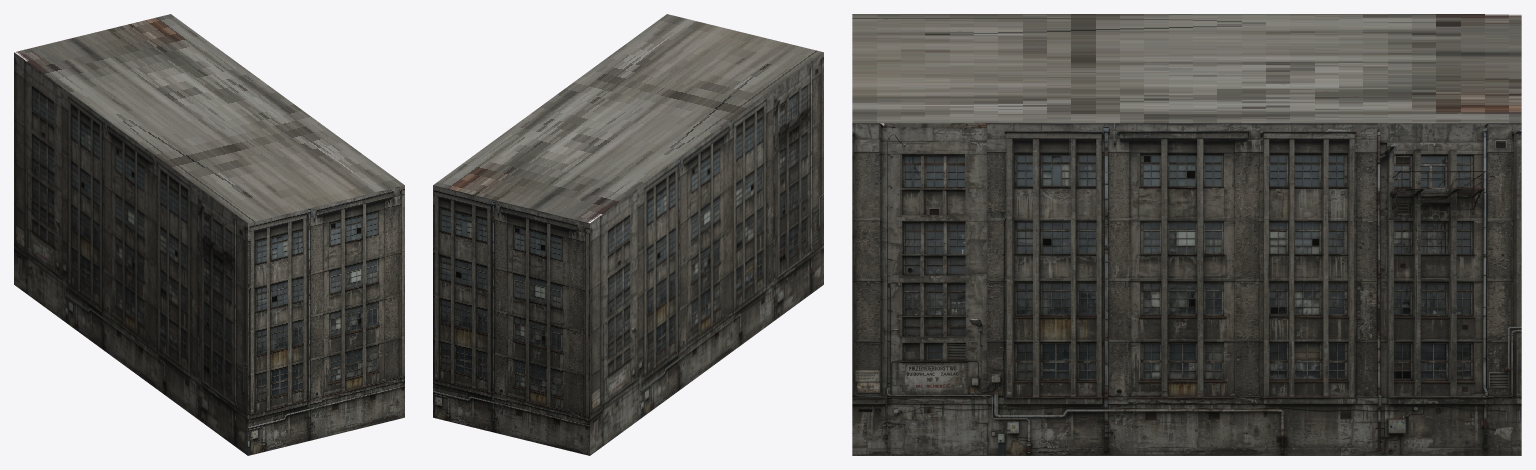
The model's file is building_factory_01.gltf.
The picture shows the model from 3 angles, left to right: view 1: azimuth 30°, elevation 25°; view 2: azimuth 150°, elevation 25°; view 3: azimuth 270°, elevation 25°; orthographic projection. The views are drawn at different scales.
Parts seen in each view (by area): view 1: mesh; view 2: mesh; view 3: mesh.
Boxes of the visible parts, bbox=[...] form: mesh: bbox=[14, 14, 404, 455]; mesh: bbox=[433, 14, 823, 455]; mesh: bbox=[852, 14, 1521, 455].
Size of the model in its own units: 1.5 by 2.12 by 3.88.
1 material, 1 textured.
